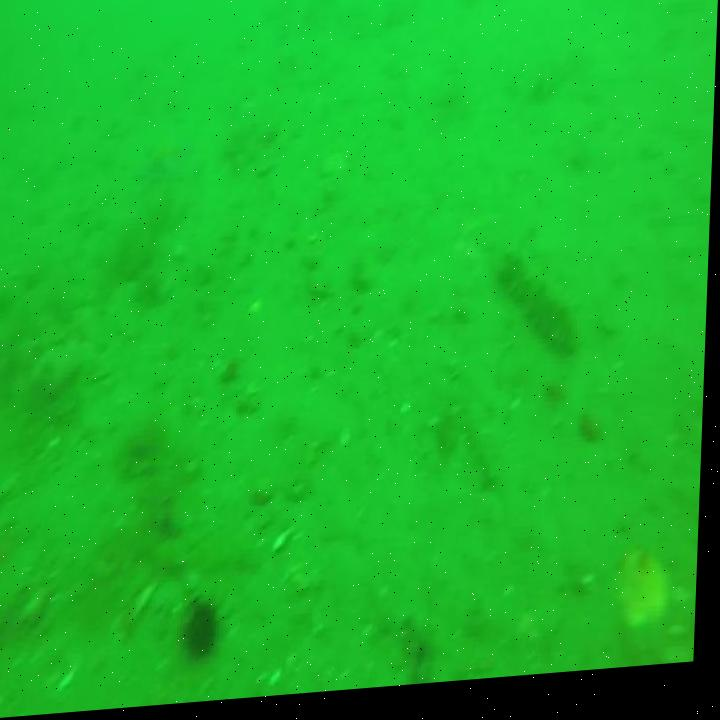echinus: (189, 599, 229, 666)
holothurian: (498, 253, 583, 376)
scallop: (630, 560, 676, 655)
